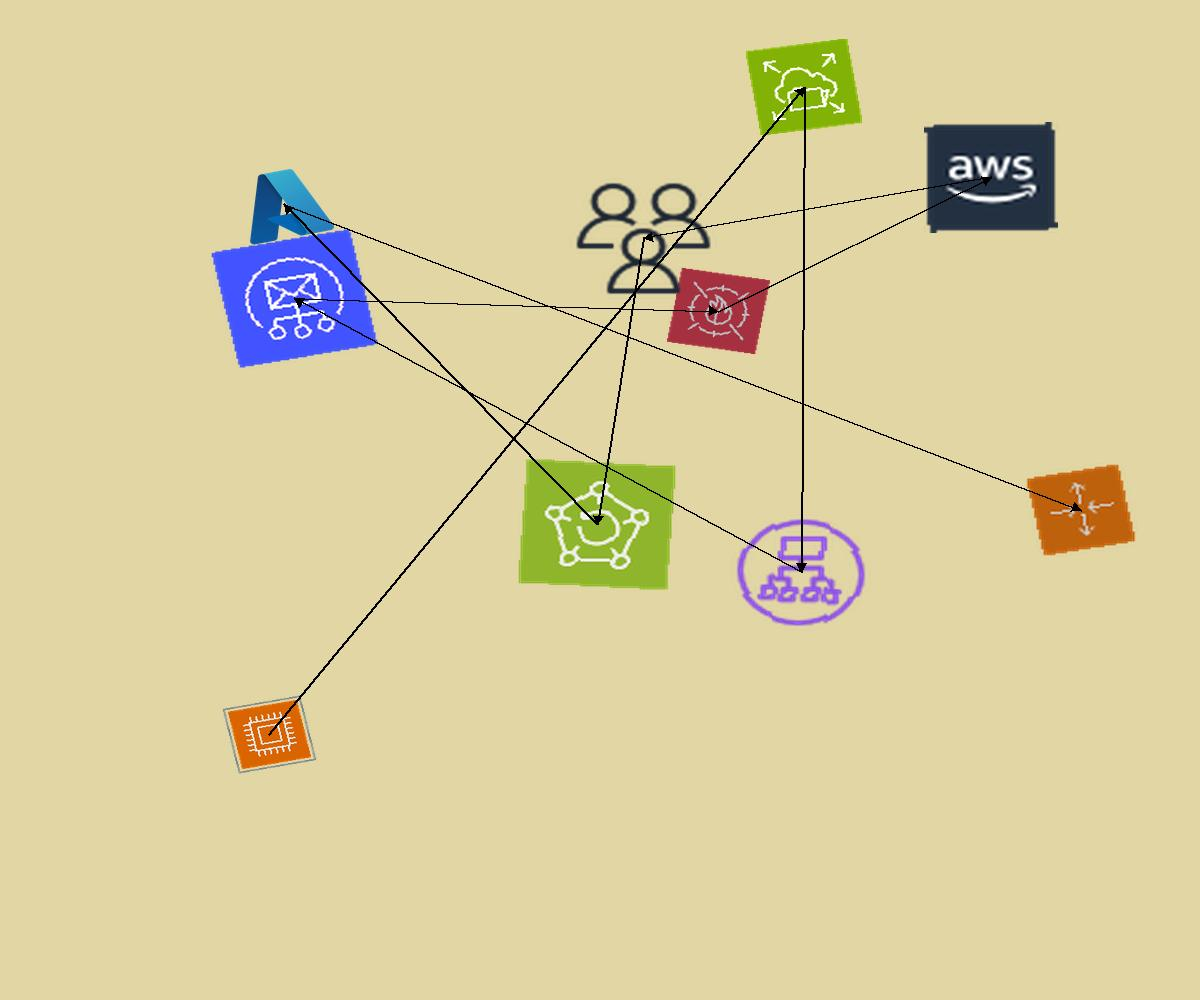AWS-Backup: (517, 458, 677, 591)
AWS-Category_Compute: (222, 695, 317, 774)
AWS-Cloud-logo: (924, 122, 1058, 233)
AWS-EFS: (745, 38, 863, 136)
AWS-Res_Elastic-Load-Balancing_Application-Load-Balancer: (726, 510, 876, 635)
AWS-Res_Users: (568, 176, 719, 301)
AWS-Scaling-group: (1025, 463, 1137, 557)
AWS-Simple-Email-Service: (210, 228, 379, 369)
AWS-WAF: (666, 267, 771, 355)
Azure_services: (228, 158, 340, 251)
